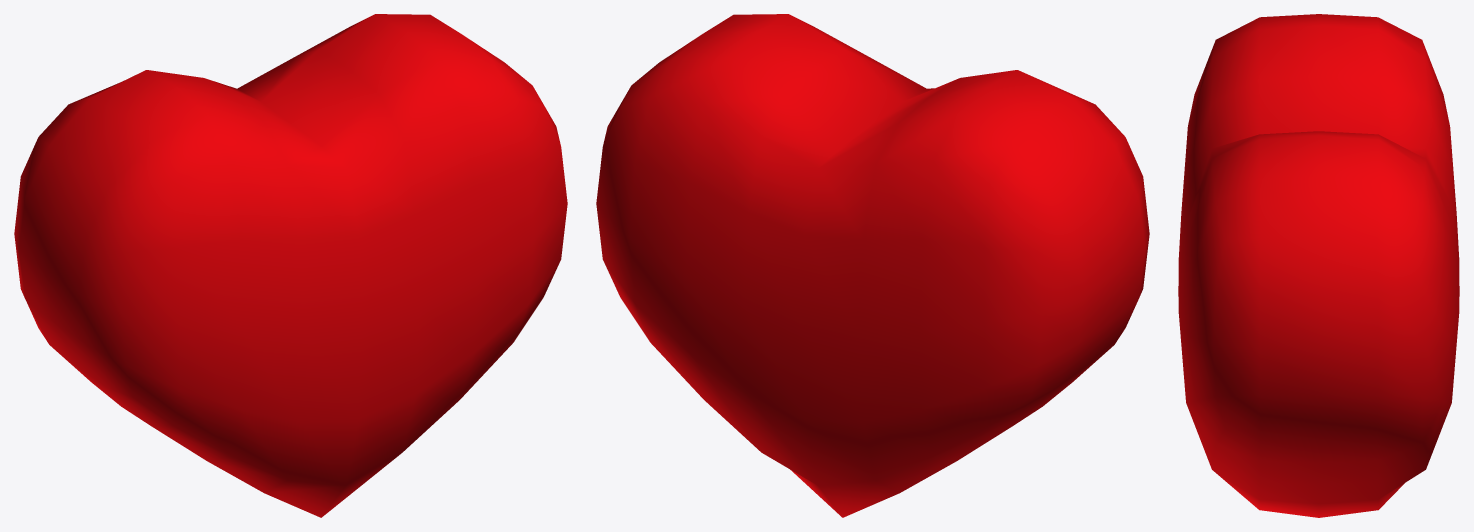
The model's file is metallicHeart.glb.
3 renders of one model, left to right at view 1: azimuth 30°, elevation 25°; view 2: azimuth 150°, elevation 25°; view 3: azimuth 270°, elevation 25°, orthographic.
Visible parts, largest first — view 1: Cube; view 2: Cube; view 3: Cube.
Boxes of the visible parts, x1,y1,x2,y2 form: Cube: [14, 14, 567, 517]; Cube: [596, 14, 1149, 517]; Cube: [1178, 14, 1459, 517].
Bounding box in the file's own units: 2.14 × 1.85 × 1.08.
